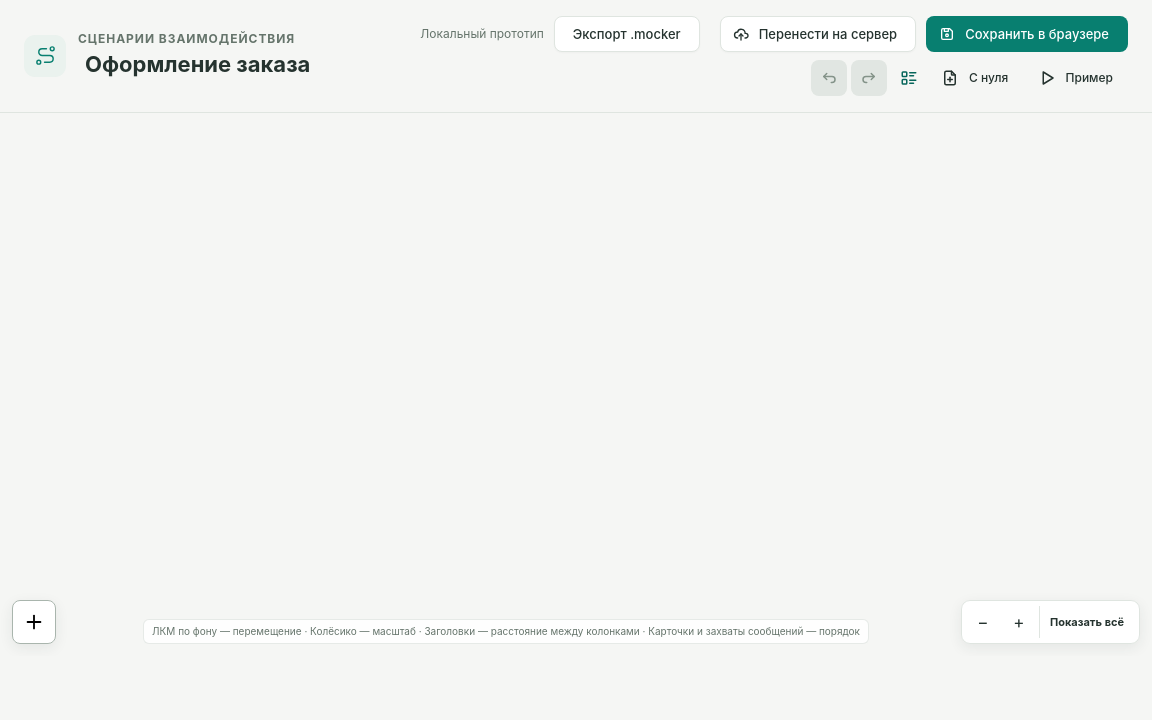
Test: DesignCanvasPage › adds a linked reply in one undo step
The image size is (1152, 720).
Click the button named "Структура сценария" at [909, 78], box left=891, top=60, right=927, bottom=96
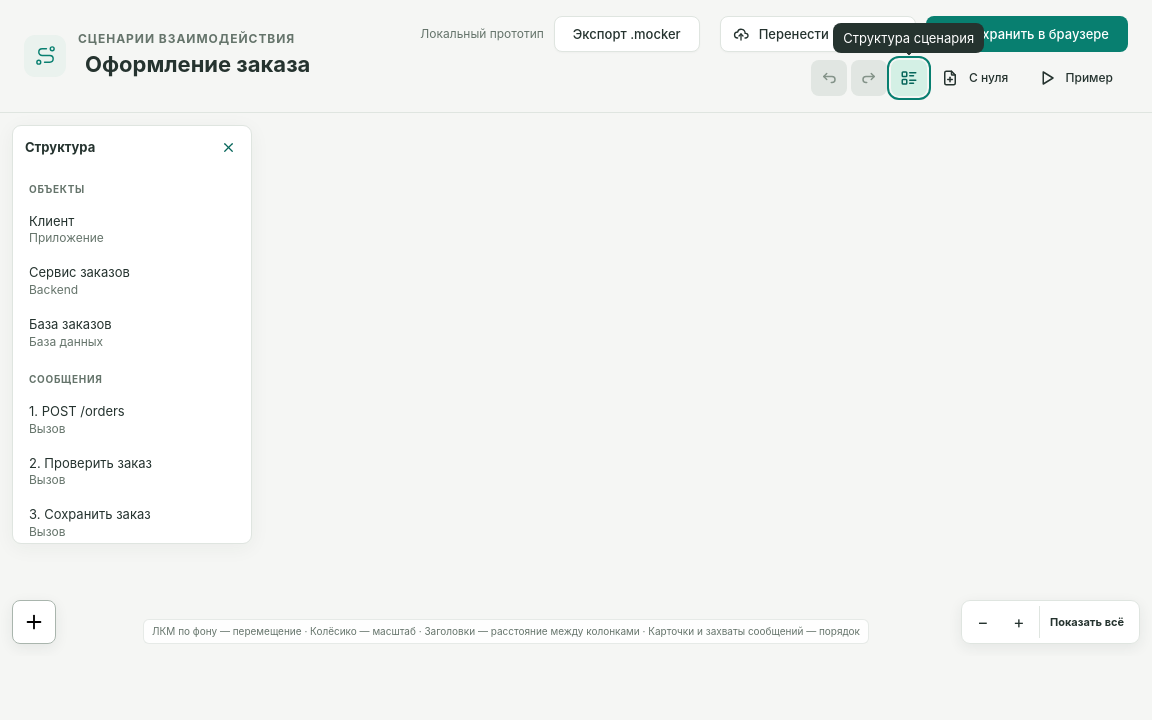
Click the button "1. POST /orders Вызов" at [132, 420], box left=19, top=394, right=245, bottom=446
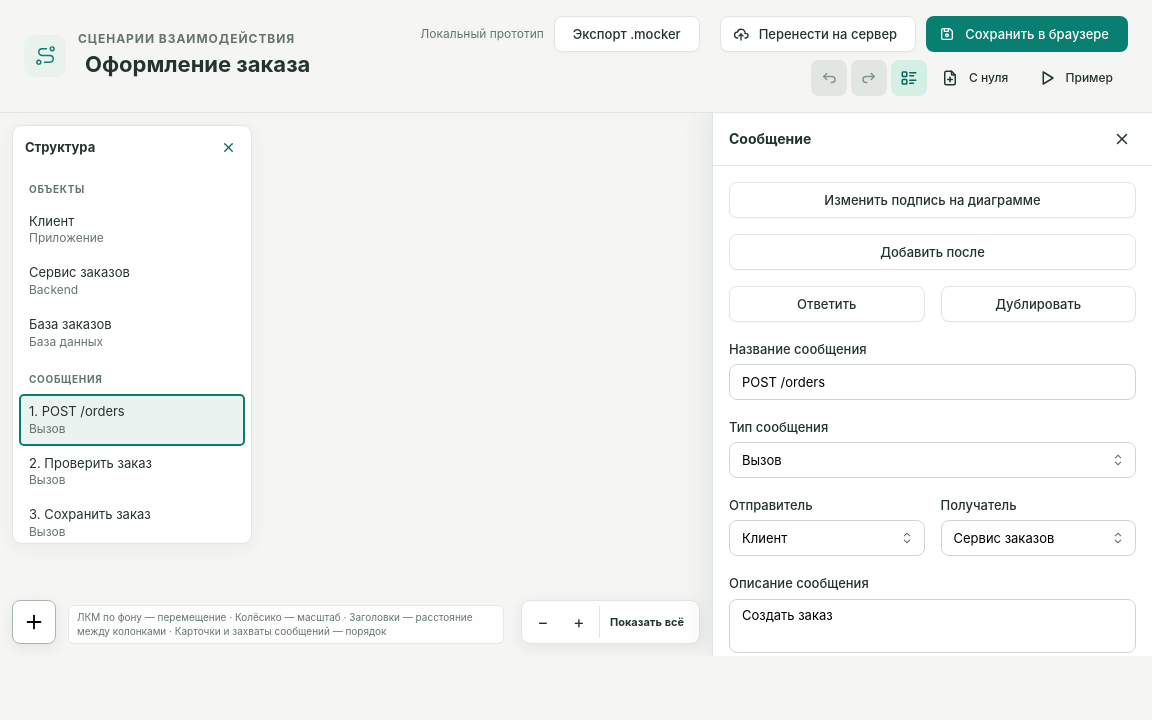
Click the button "Ответить" at [827, 304], box left=729, top=286, right=924, bottom=322
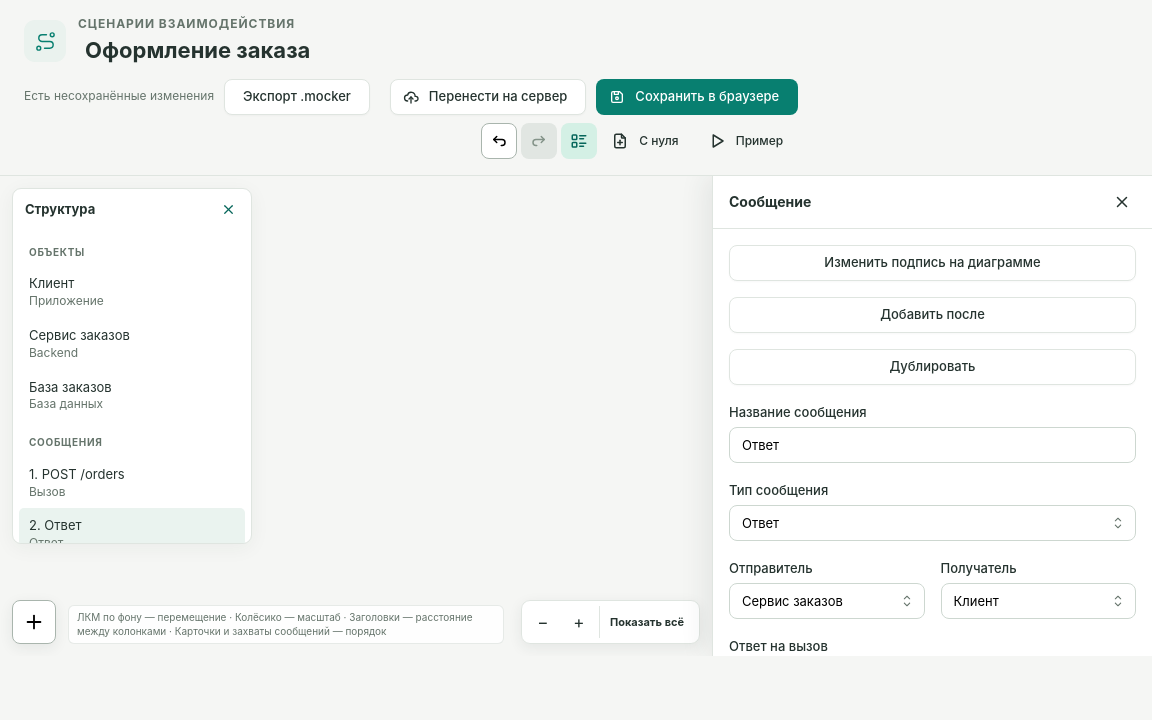
Expected: the field labelled "Название сообщения" holds "Ответ", left=729, top=427, right=1136, bottom=463
Click the button named "Отменить" at [499, 141], box left=481, top=123, right=517, bottom=159
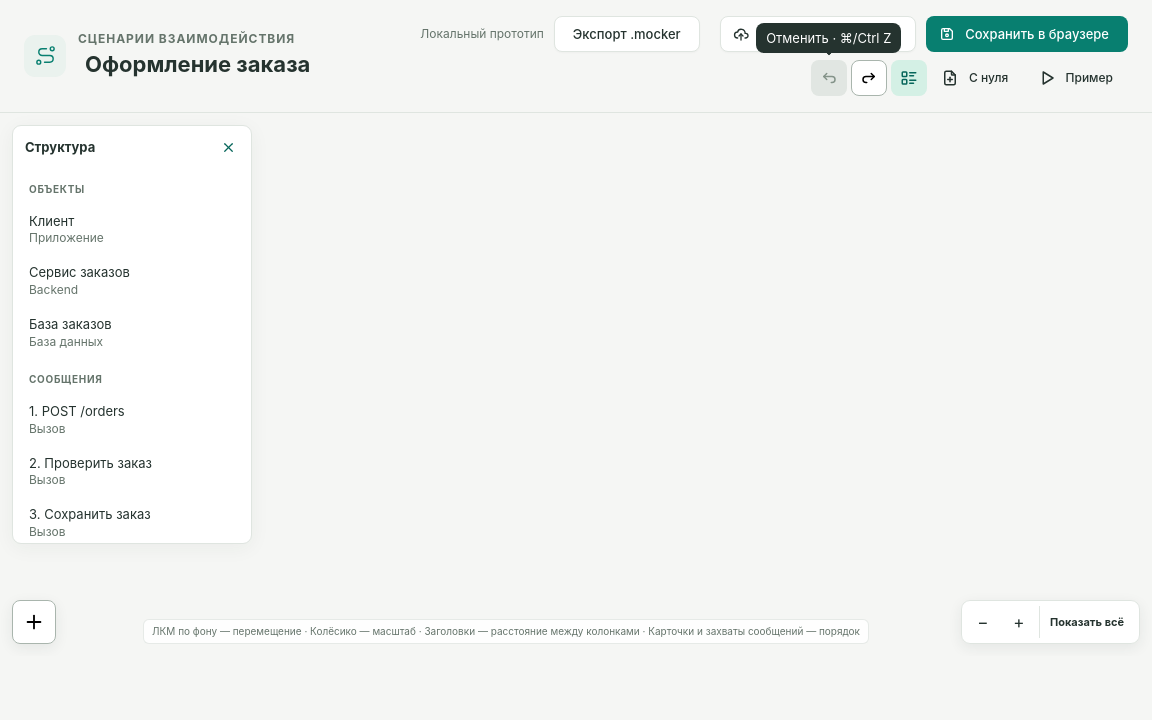
Expected: the button "2. Проверить заказ Вызов" is shown, left=19, top=446, right=245, bottom=497
Expected: the button "2. Ответ Ответ" is gone
